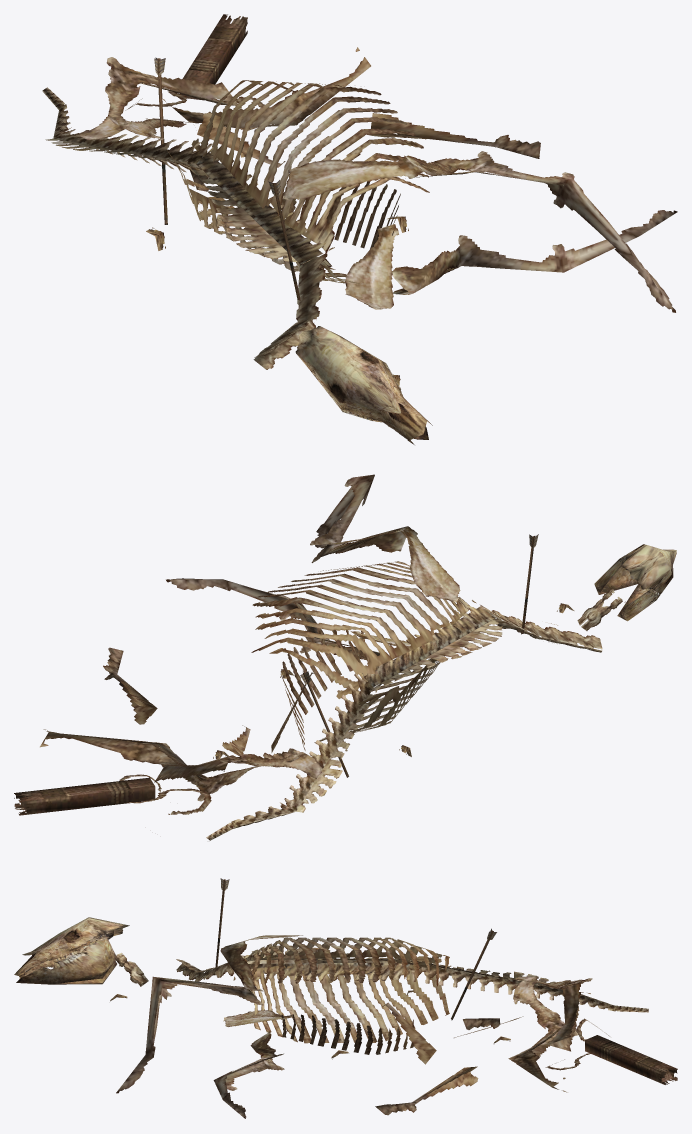
Rendered from oas_tarim_skull_horse.glb.
The picture shows the model from 3 angles, top to bottom: view 1: azimuth 30°, elevation 25°; view 2: azimuth 150°, elevation 25°; view 3: azimuth 270°, elevation 25°; orthographic projection. The views are drawn at different scales.
Visible parts, largest first — view 1: Oas_tarim_skull_horse, Oas_tarim_skull_horse_2sid; view 2: Oas_tarim_skull_horse, Oas_tarim_skull_horse_2sid; view 3: Oas_tarim_skull_horse, Oas_tarim_skull_horse_2sid.
Part boxes in pixels (x1,y1,x2,y2): Oas_tarim_skull_horse: [42, 14, 677, 444]; Oas_tarim_skull_horse_2sid: [154, 57, 300, 300]; Oas_tarim_skull_horse: [14, 474, 676, 840]; Oas_tarim_skull_horse_2sid: [300, 534, 538, 777]; Oas_tarim_skull_horse: [14, 917, 677, 1118]; Oas_tarim_skull_horse_2sid: [215, 878, 496, 1020].
Size of the model in its own units: 2.71 by 1.04 by 4.72.
2 materials, 2 textured.
